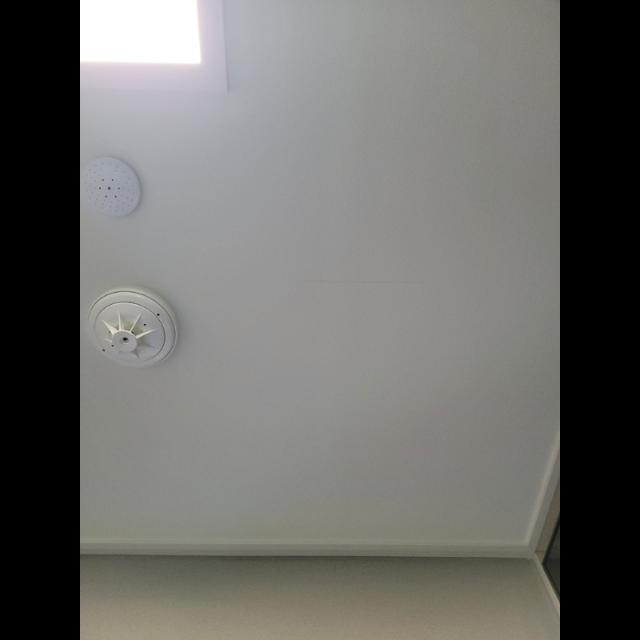Smoke-Detector: (89, 288, 179, 370)
